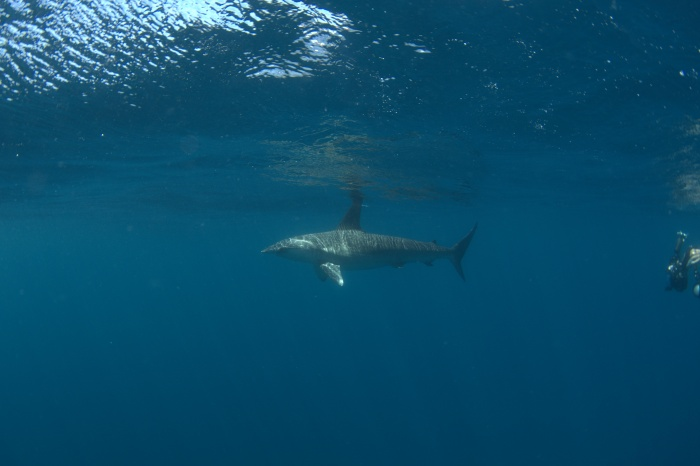Hammer: (262, 194, 500, 299)
